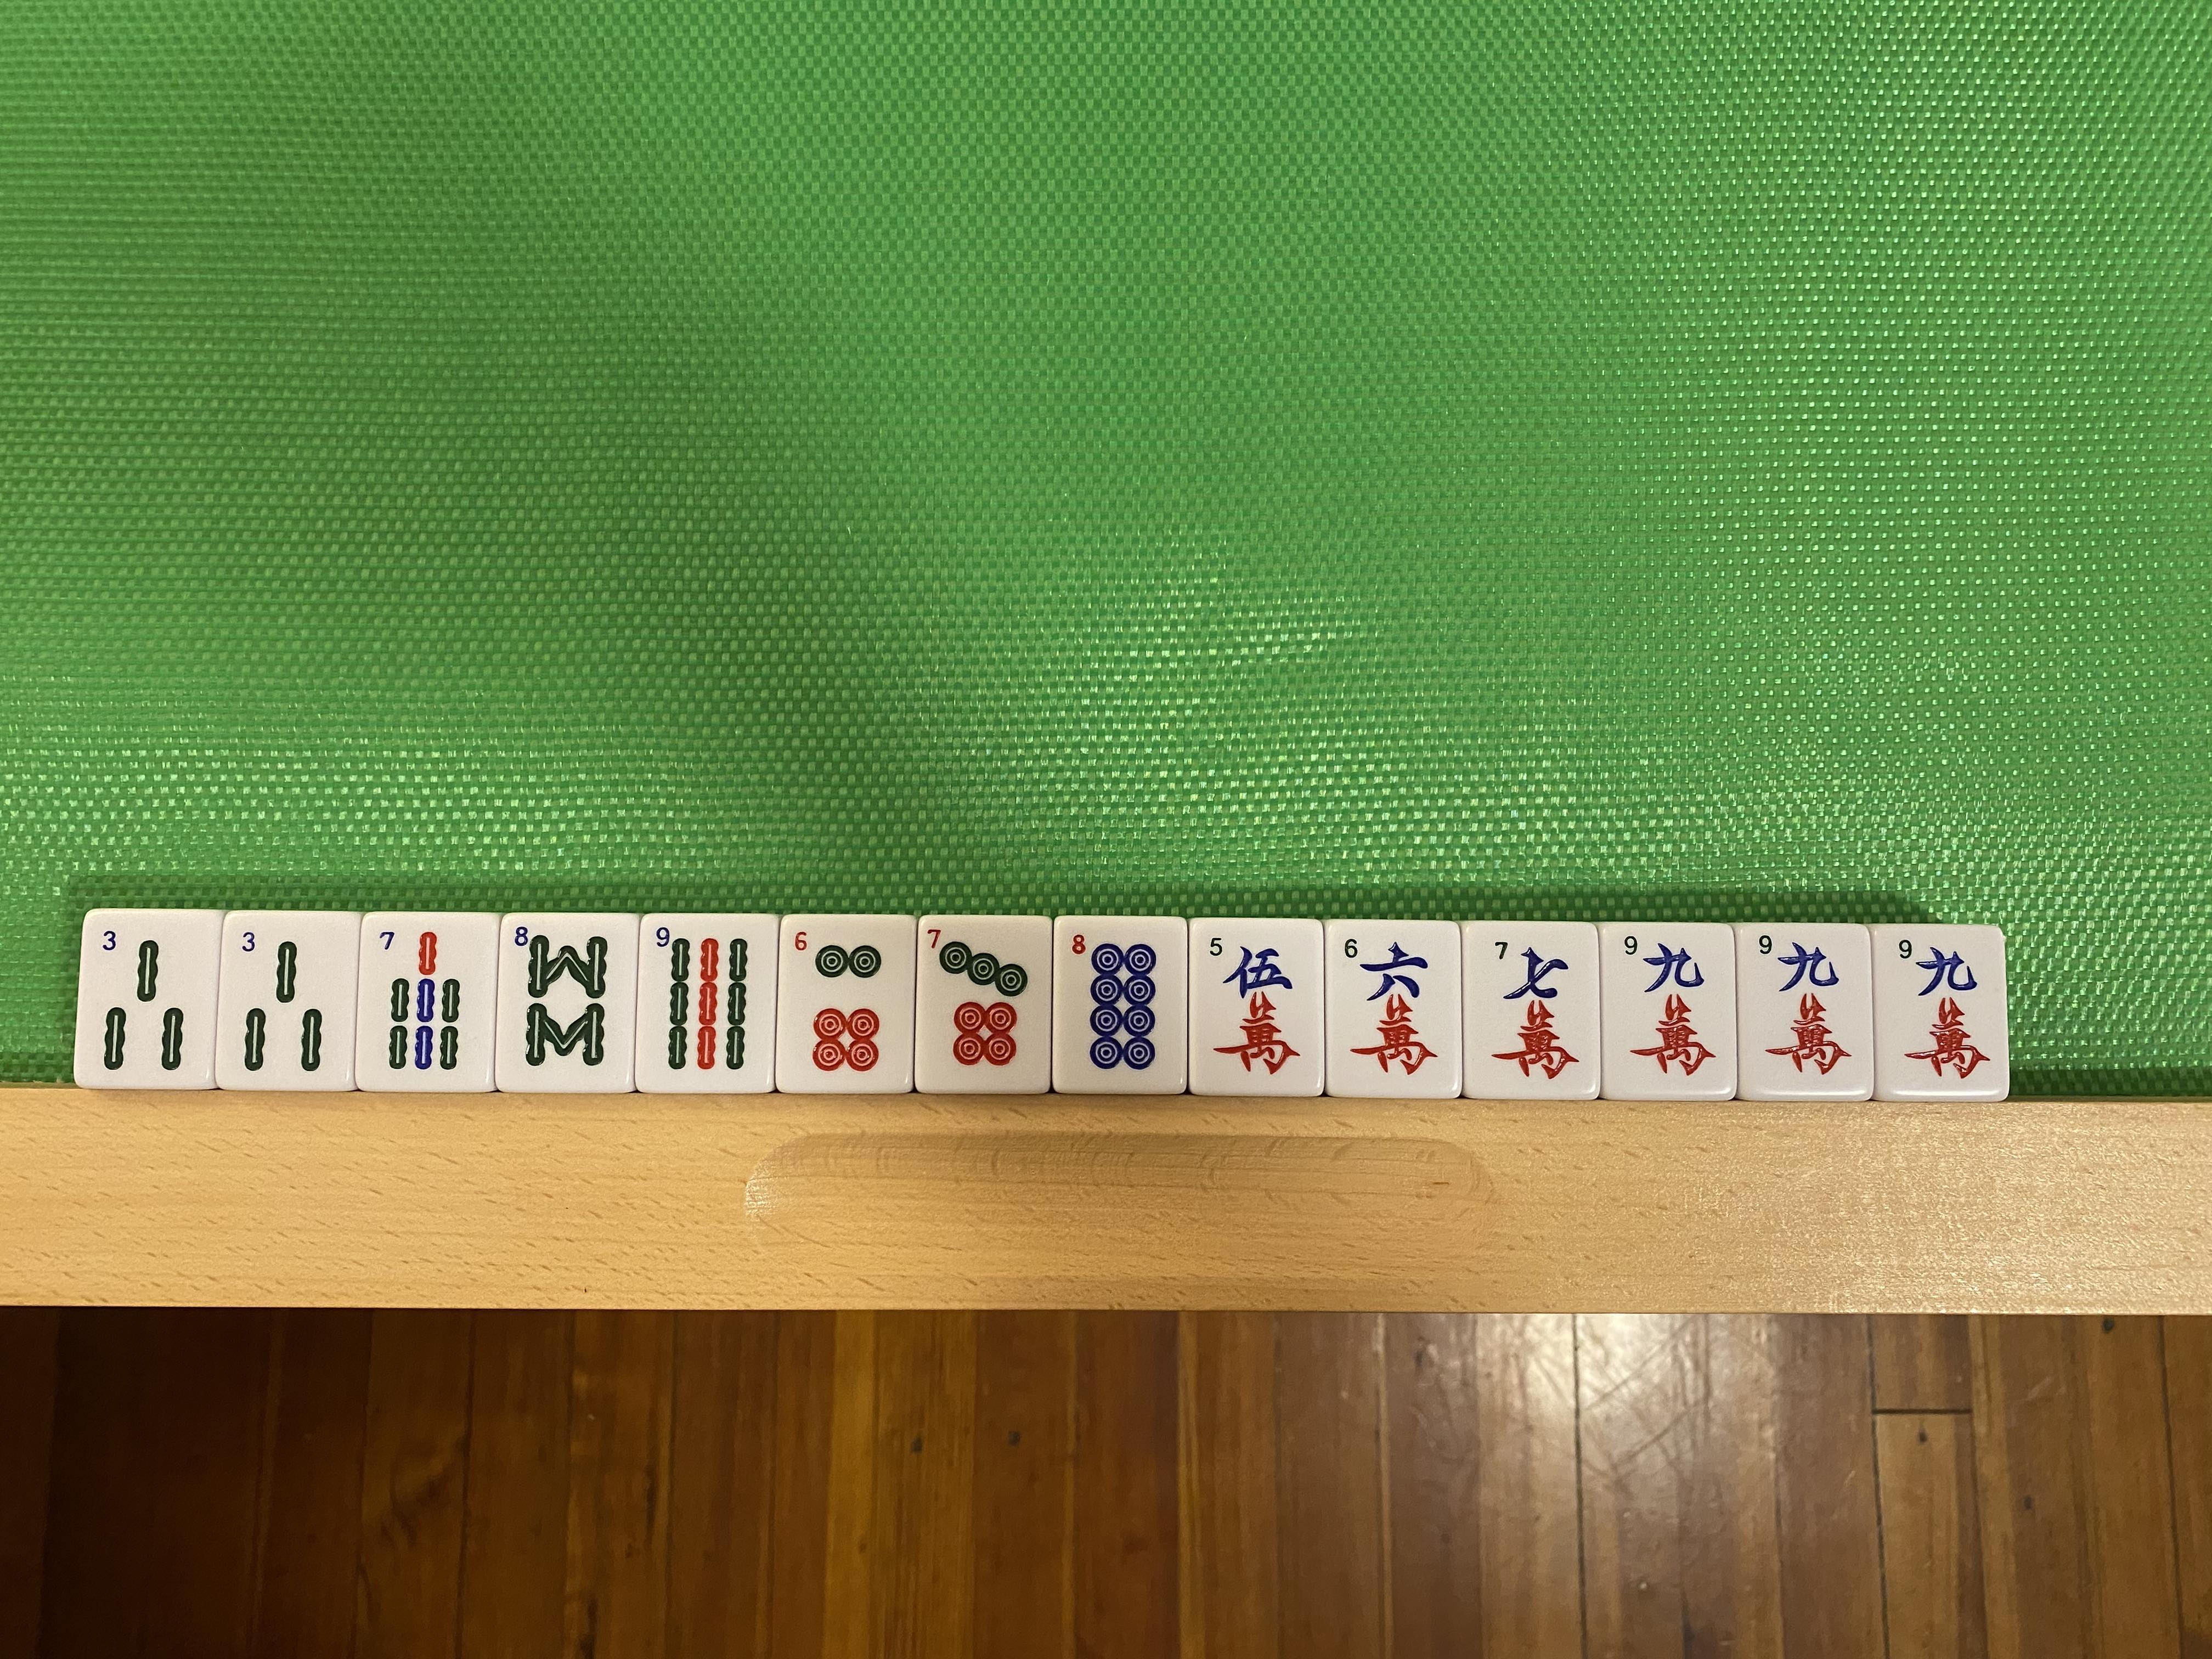bamboo-eight: (502, 915, 632, 1091)
bamboo-nine: (639, 915, 775, 1091)
bamboo-seven: (364, 915, 493, 1087)
bamboo-three: (225, 917, 354, 1091), (87, 913, 207, 1089)
character-five: (1191, 920, 1322, 1096)
character-nine: (1601, 925, 1738, 1103), (1740, 925, 1872, 1101), (1874, 927, 2001, 1100)
character-seven: (1463, 924, 1597, 1098)
character-six: (1331, 924, 1460, 1096)
circle-eight: (1055, 917, 1186, 1091)
circle-seven: (918, 918, 1054, 1093)
circle-six: (782, 917, 913, 1093)
